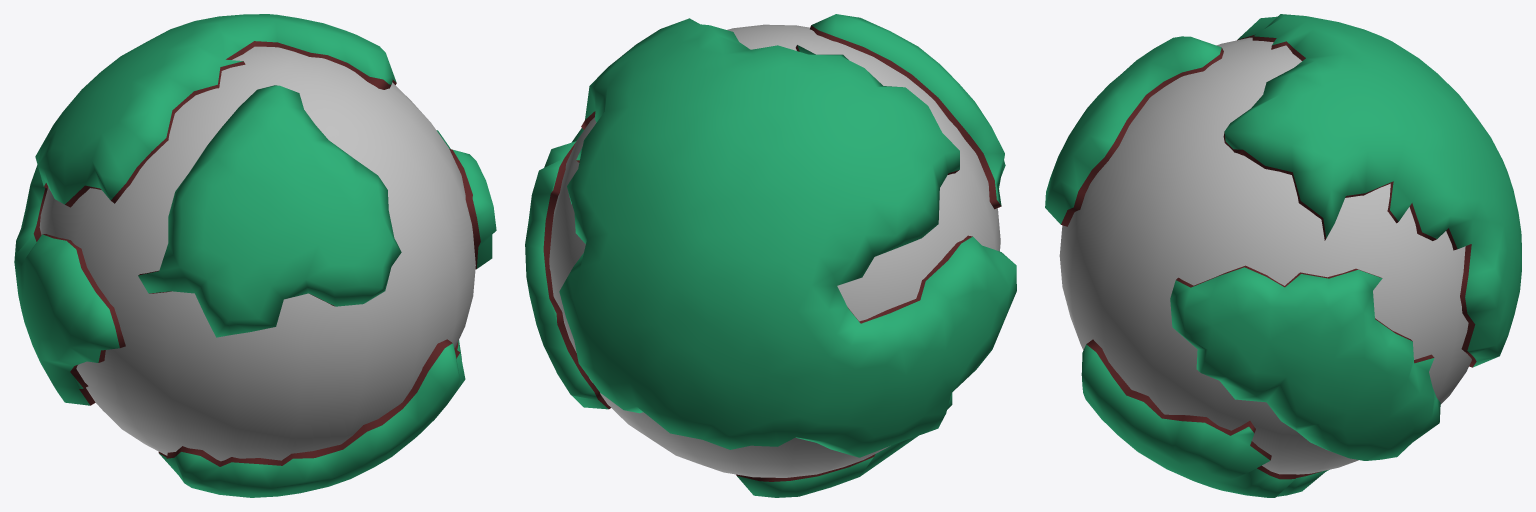
The model's file is Planet.fbx.
The picture shows the model from 3 angles, left to right: view 1: azimuth 30°, elevation 25°; view 2: azimuth 150°, elevation 25°; view 3: azimuth 270°, elevation 25°; orthographic projection. The views are drawn at different scales.
Visible parts, largest first — view 1: pPlatonic1, pSphere1; view 2: pPlatonic1, pSphere1; view 3: pPlatonic1, pSphere1.
Part boxes in pixels (left/top/right/bottom): pPlatonic1: left=14, top=14, right=496, bottom=497; pSphere1: left=39, top=46, right=475, bottom=461; pPlatonic1: left=525, top=14, right=1016, bottom=497; pSphere1: left=549, top=24, right=1000, bottom=477; pPlatonic1: left=1045, top=14, right=1521, bottom=497; pSphere1: left=1059, top=37, right=1471, bottom=474.
Size of the model in its own units: 117 by 117 by 116.
